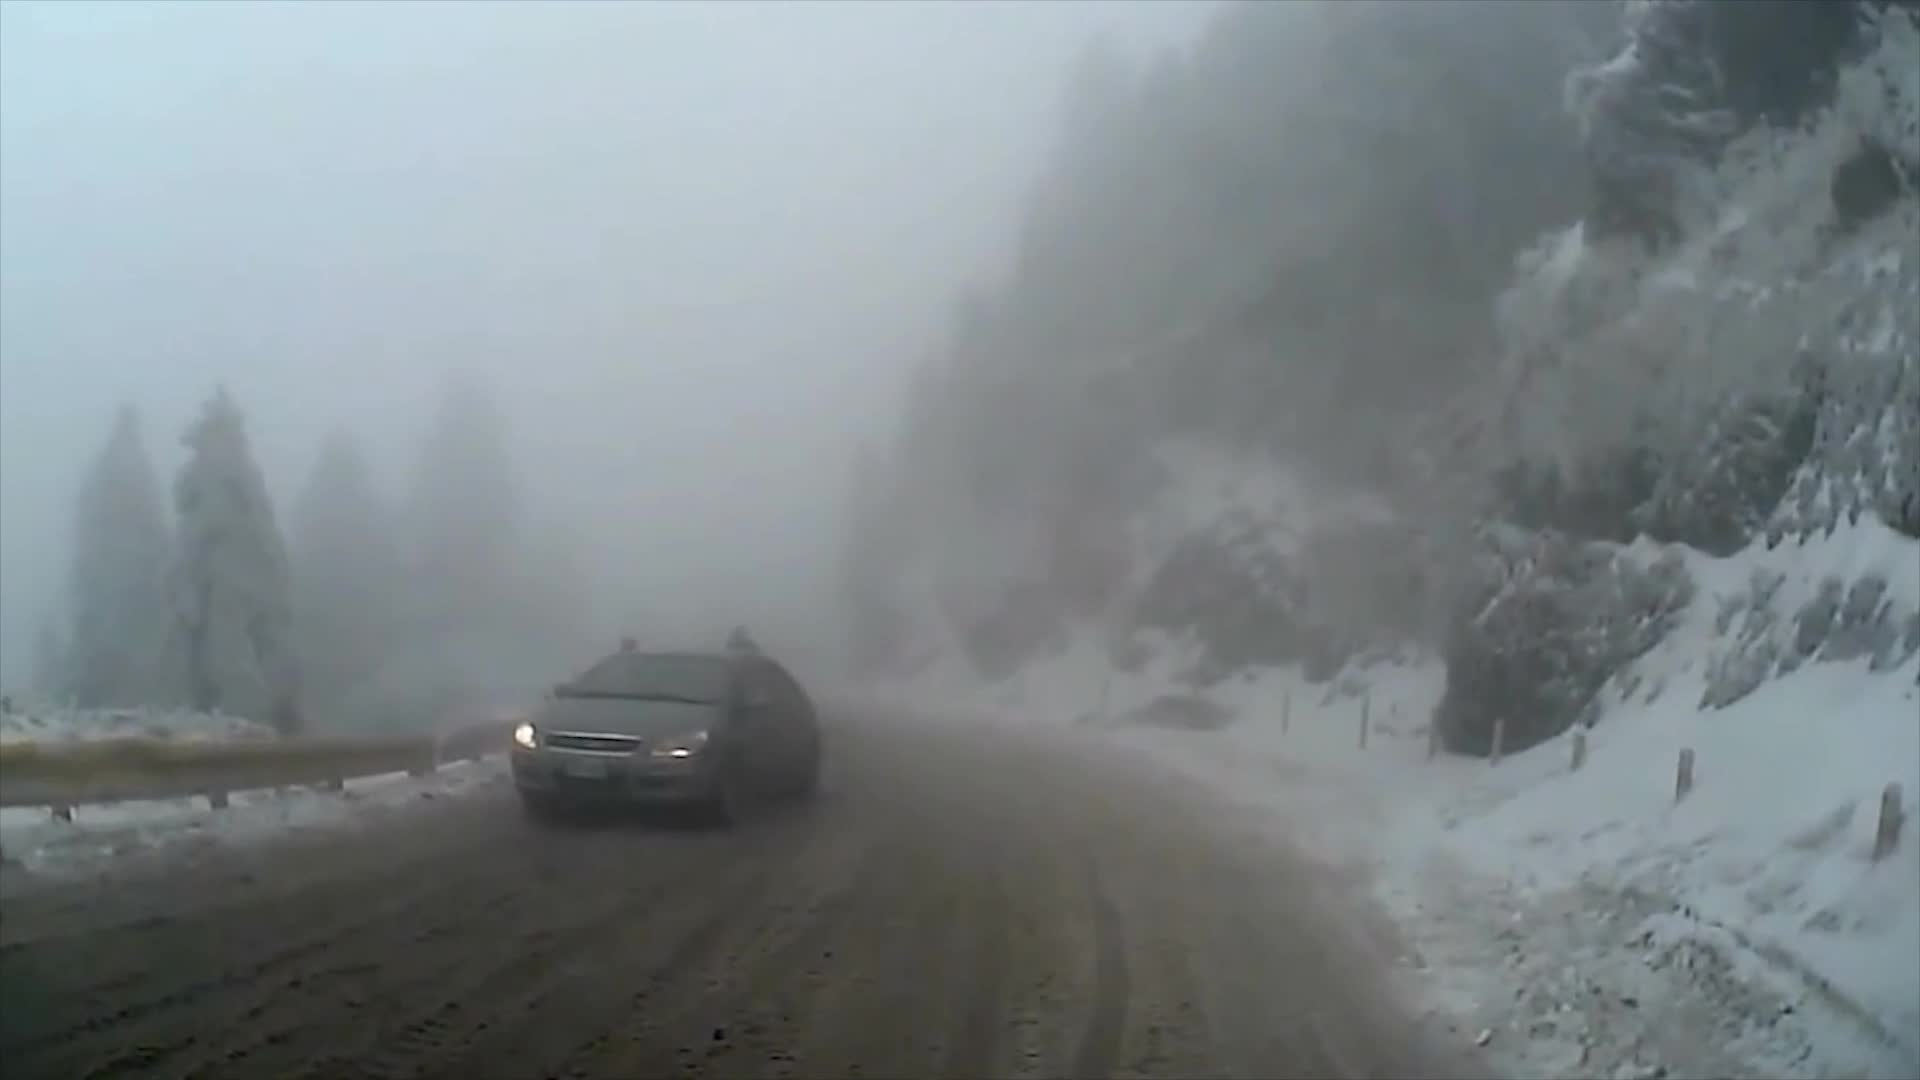vehicle: (508, 644, 820, 831)
